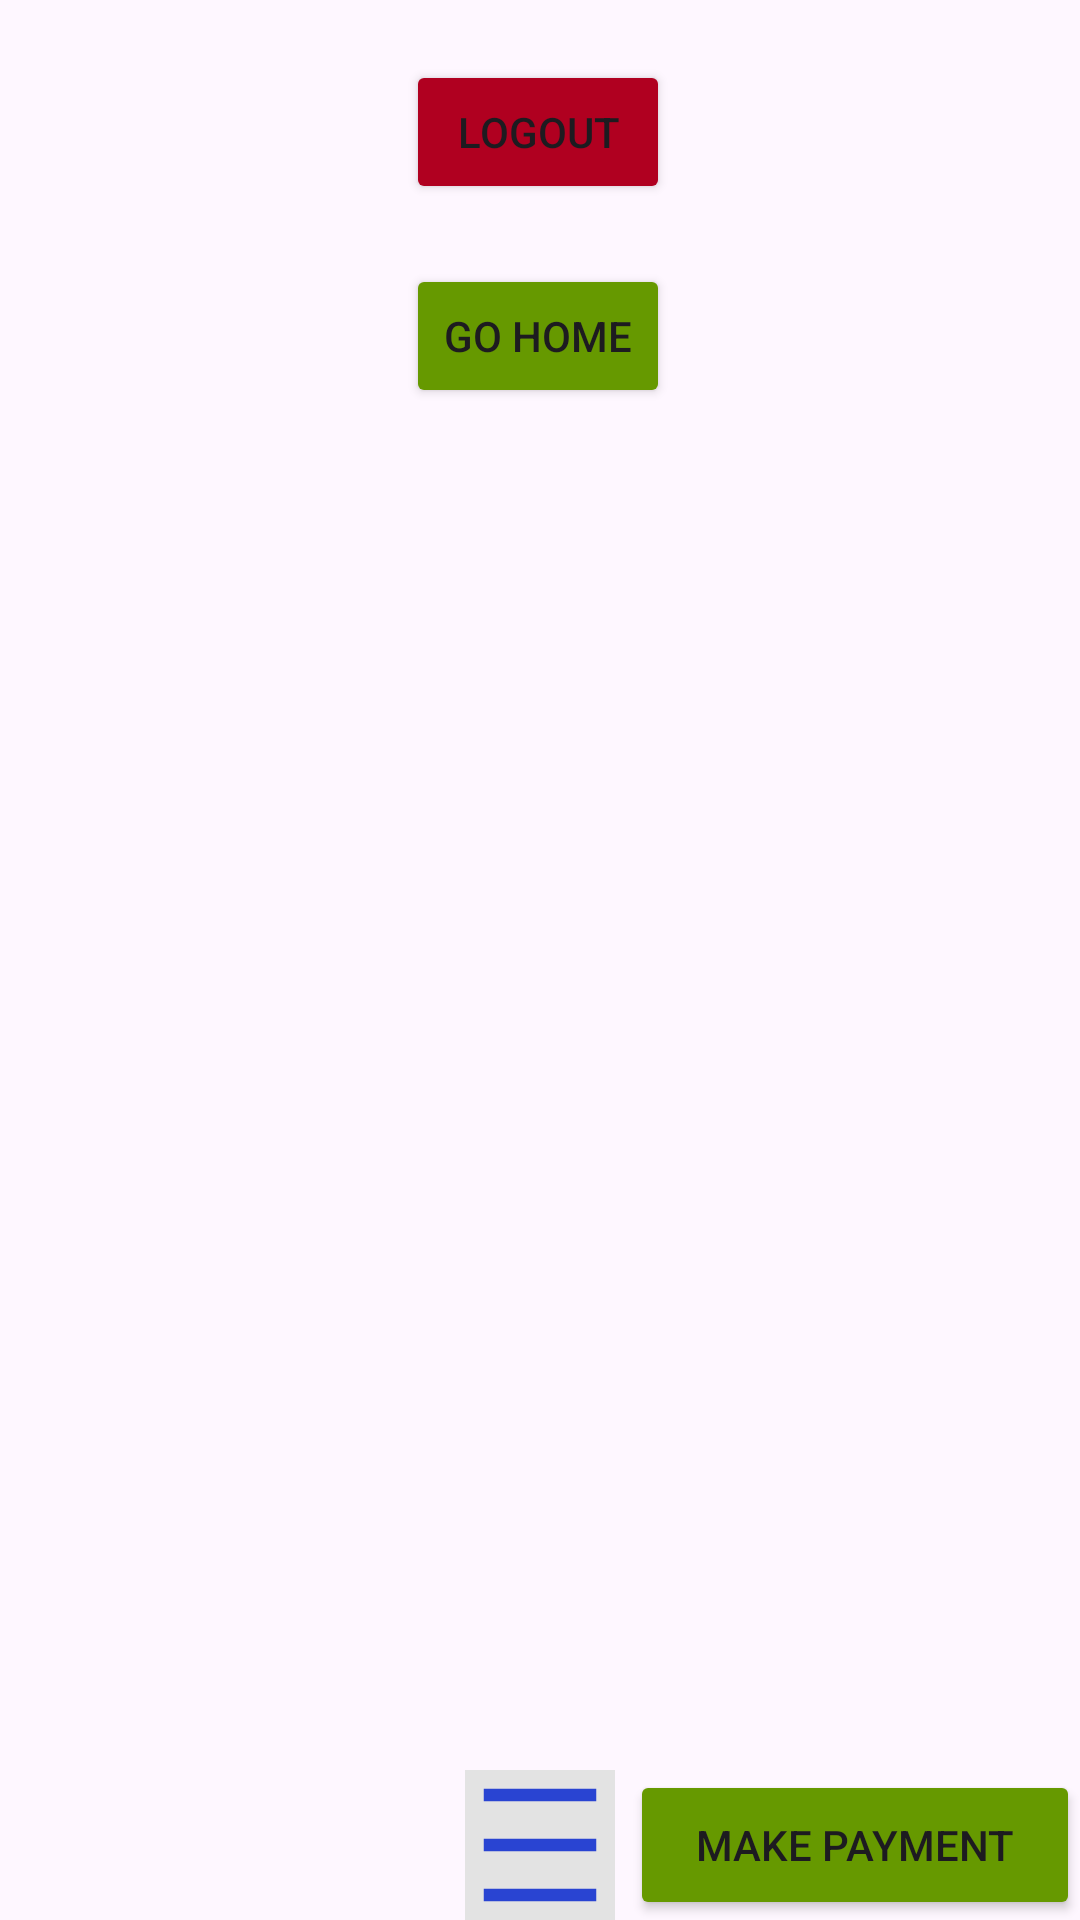

Named icons in this screenshot (1080 × 1920) and their centers, (x,y):
menu: (540,1845)
